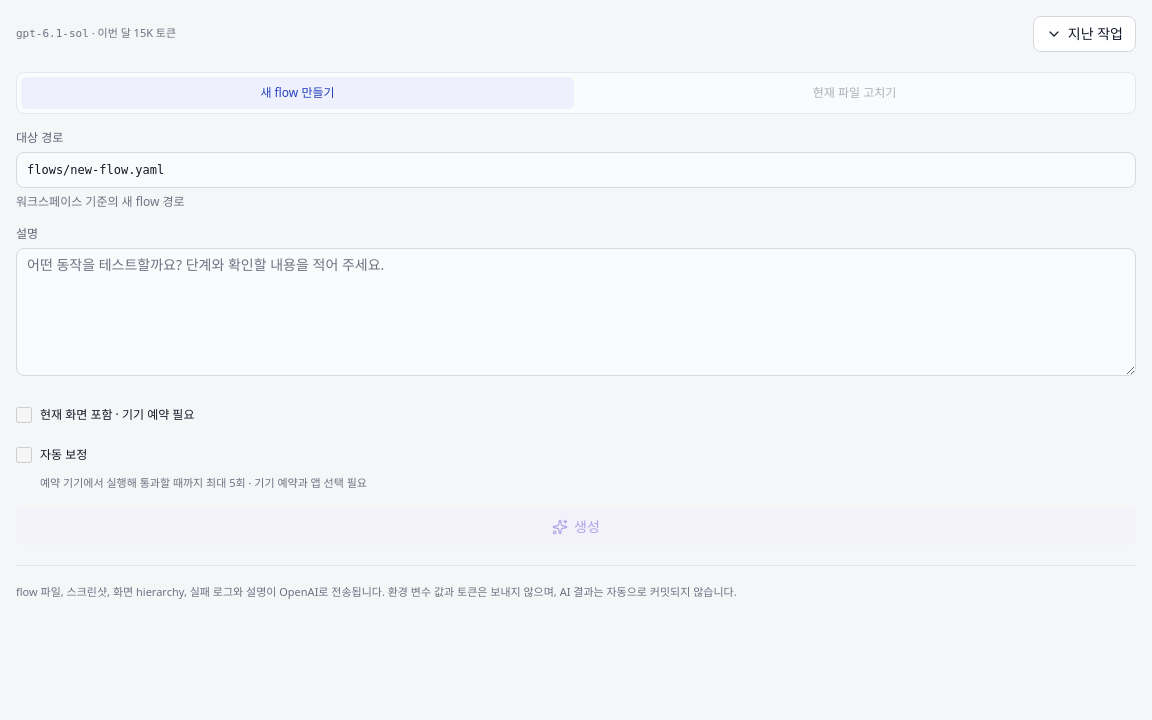
Scenario: keeps failed submits inline and preserves entered text for a retry
This screenshot has width=1152, height=720.
In the text box labelled "설명": {"x": 576, "y": 312} [16, 248, 1136, 376], type "로그인 확인"
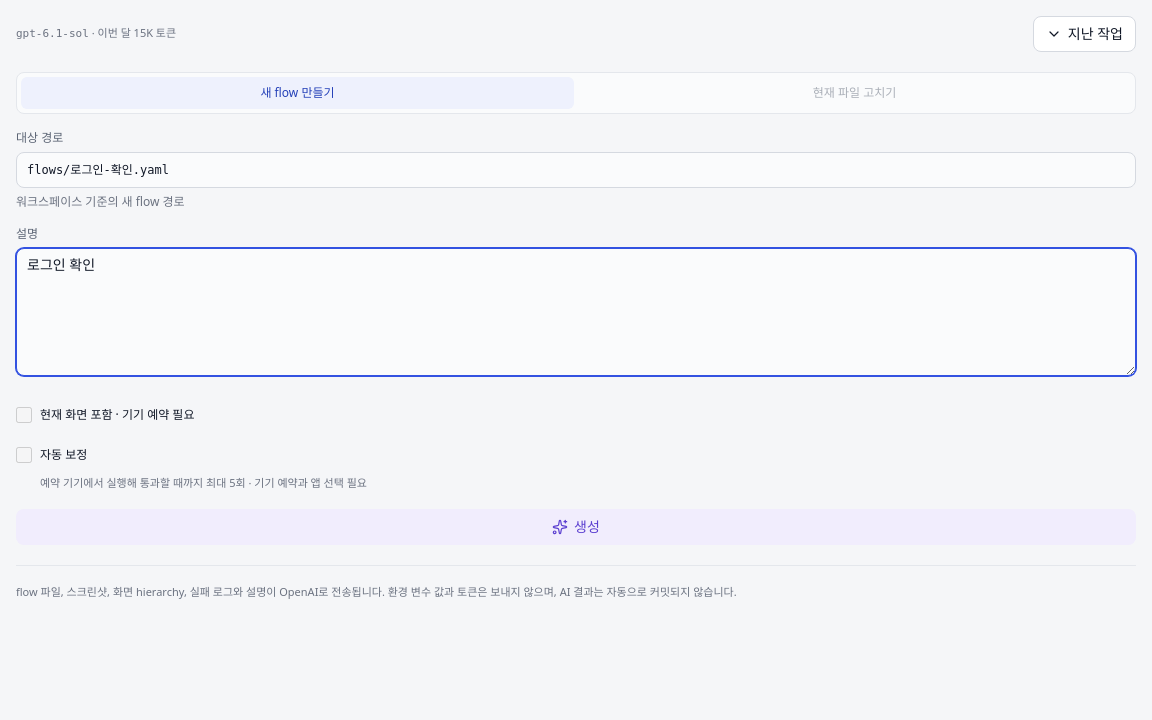
Click the button "생성": {"x": 576, "y": 527} [16, 509, 1136, 545]
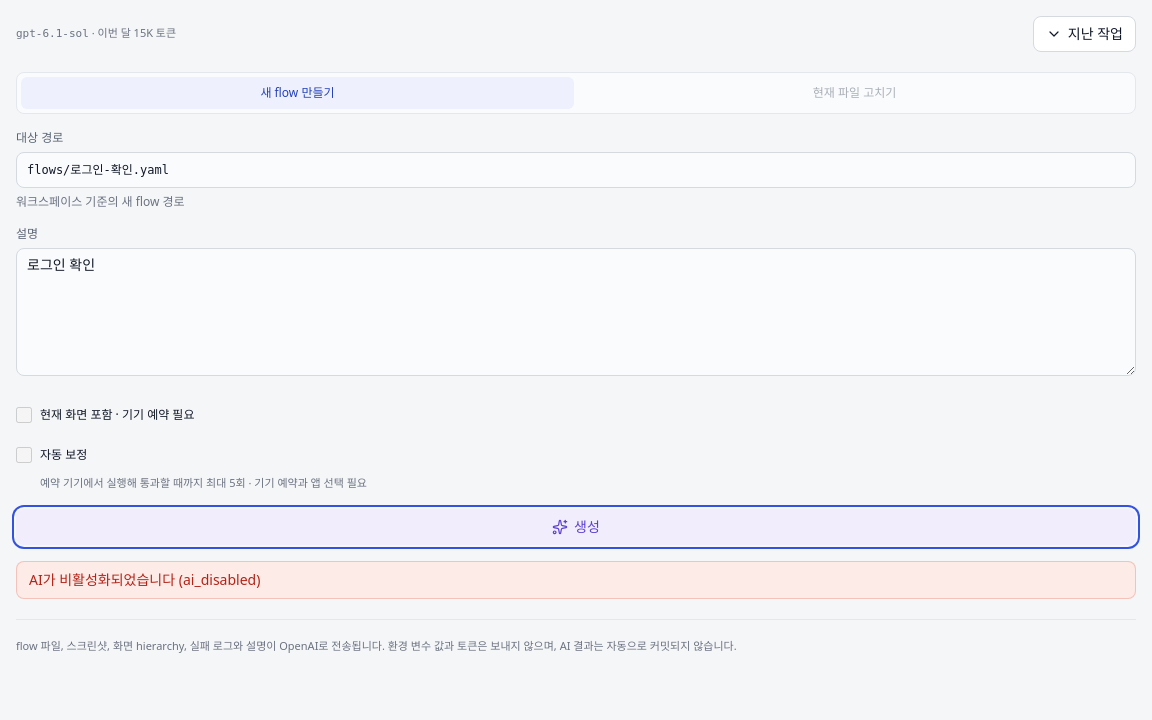
Check: the message "AI가 비활성화되었습니다 (ai_disabled)" is shown, box [16, 561, 1136, 599]
Check: the message shows "ai_disabled", box [29, 570, 260, 589]
